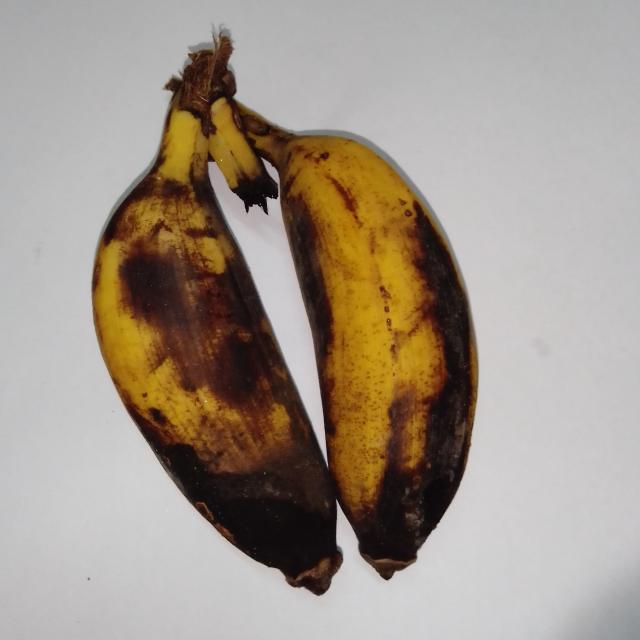banana: (93, 70, 341, 594), (238, 105, 477, 578), (181, 34, 277, 213)
